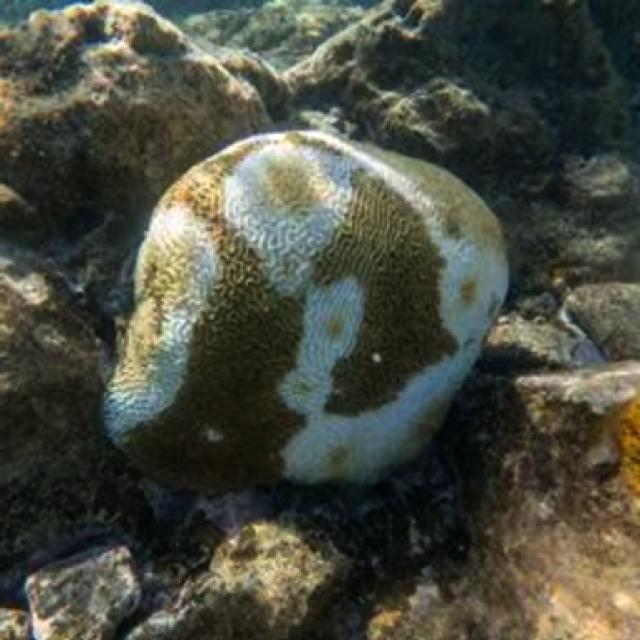Coral: (102, 129, 510, 492)
